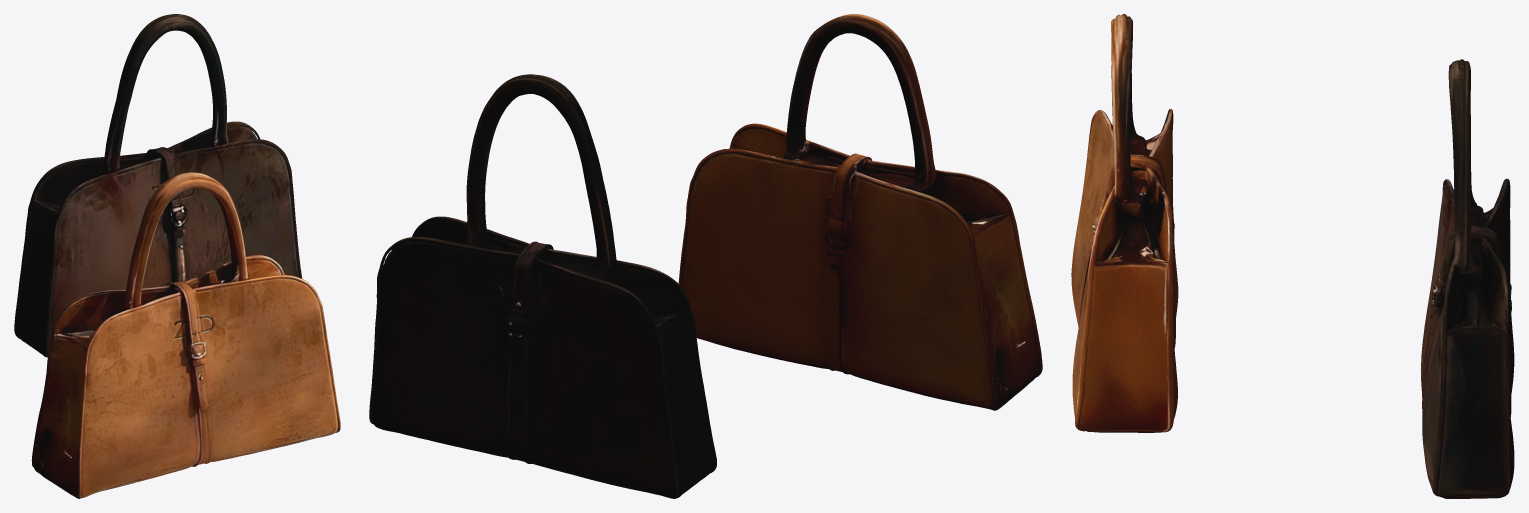
The model's file is luwai-18.glb.
3 renders of one model, left to right at view 1: azimuth 30°, elevation 25°; view 2: azimuth 150°, elevation 25°; view 3: azimuth 270°, elevation 25°, orthographic. The views are drawn at different scales.
Parts seen in each view (by area): view 1: model; view 2: model; view 3: model.
Part boxes in pixels (x1=…): model: x1=14, y1=14, x2=340, y2=498; model: x1=369, y1=14, x2=1042, y2=498; model: x1=1071, y1=14, x2=1514, y2=498.
Size of the model in its own units: 1.9 by 1.47 by 1.6.
1 material, 1 textured.
